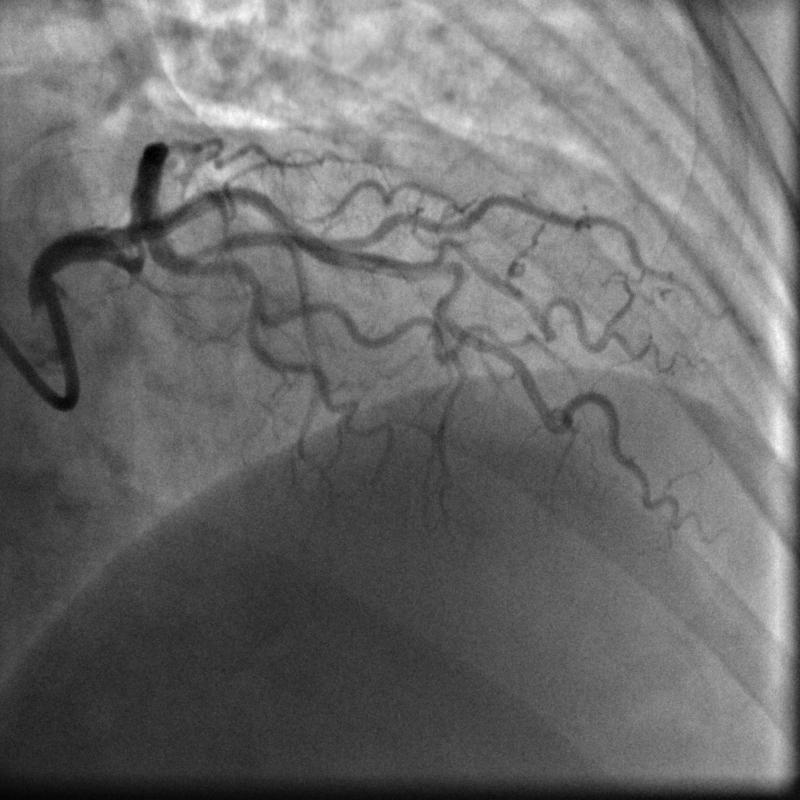Stenosis: (122, 220, 152, 269)
